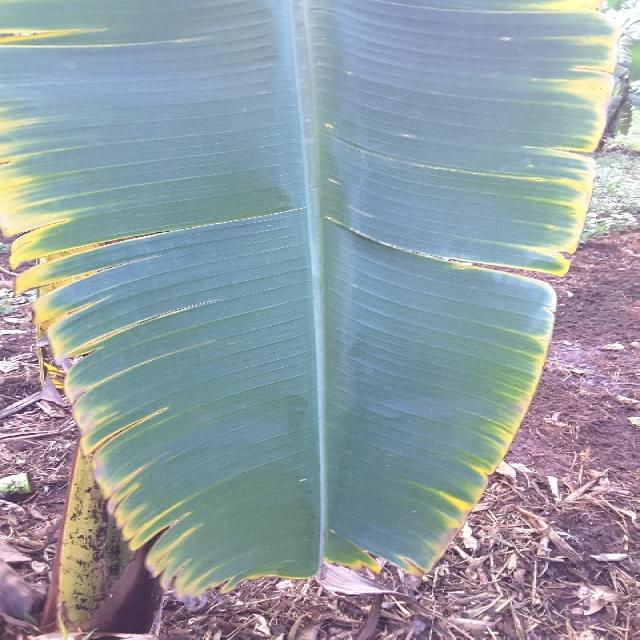Cordana: (0, 0, 317, 599), (308, 0, 629, 590)
